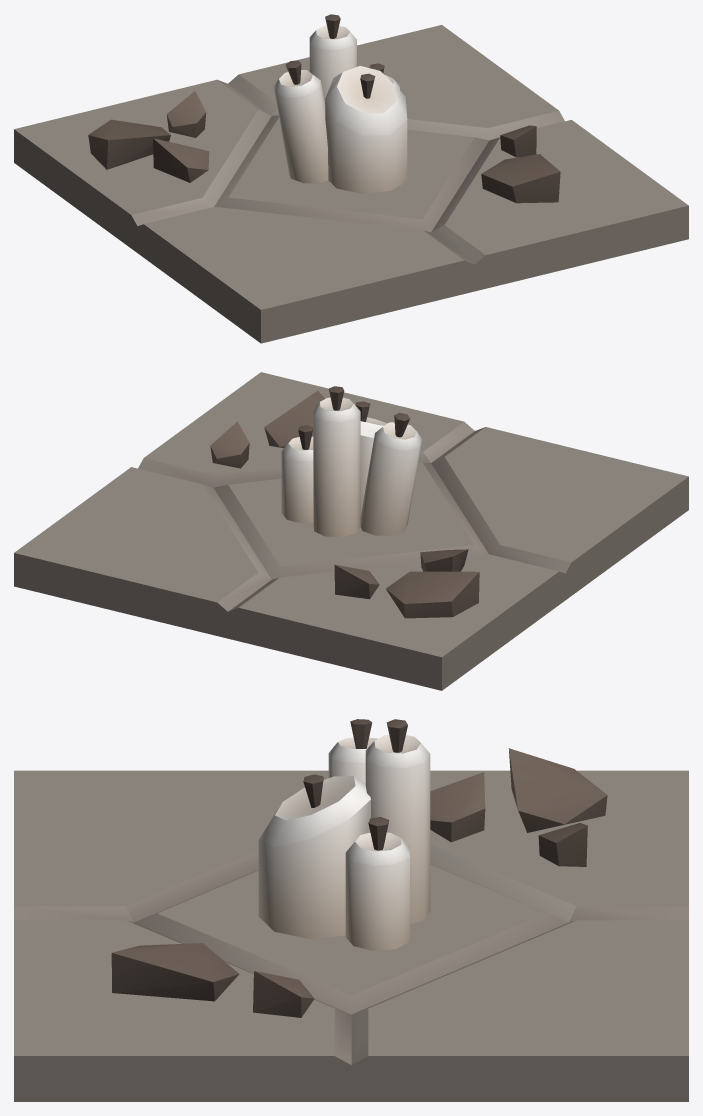
The model's file is floor_tile_small_decorated.gltf.
The picture shows the model from 3 angles, top to bottom: view 1: azimuth 30°, elevation 25°; view 2: azimuth 150°, elevation 25°; view 3: azimuth 270°, elevation 25°; orthographic projection. The views are drawn at different scales.
Visible parts, largest first — view 1: floor_tile_small_decorated; view 2: floor_tile_small_decorated; view 3: floor_tile_small_decorated.
Part boxes in pixels (x1=…): floor_tile_small_decorated: x1=14, y1=14, x2=688, y2=343; floor_tile_small_decorated: x1=14, y1=372, x2=688, y2=690; floor_tile_small_decorated: x1=14, y1=719, x2=688, y2=1101.
Bounding box in the file's own units: 2 × 0.773 × 2.
Materials: 1 (1 with a texture image).
